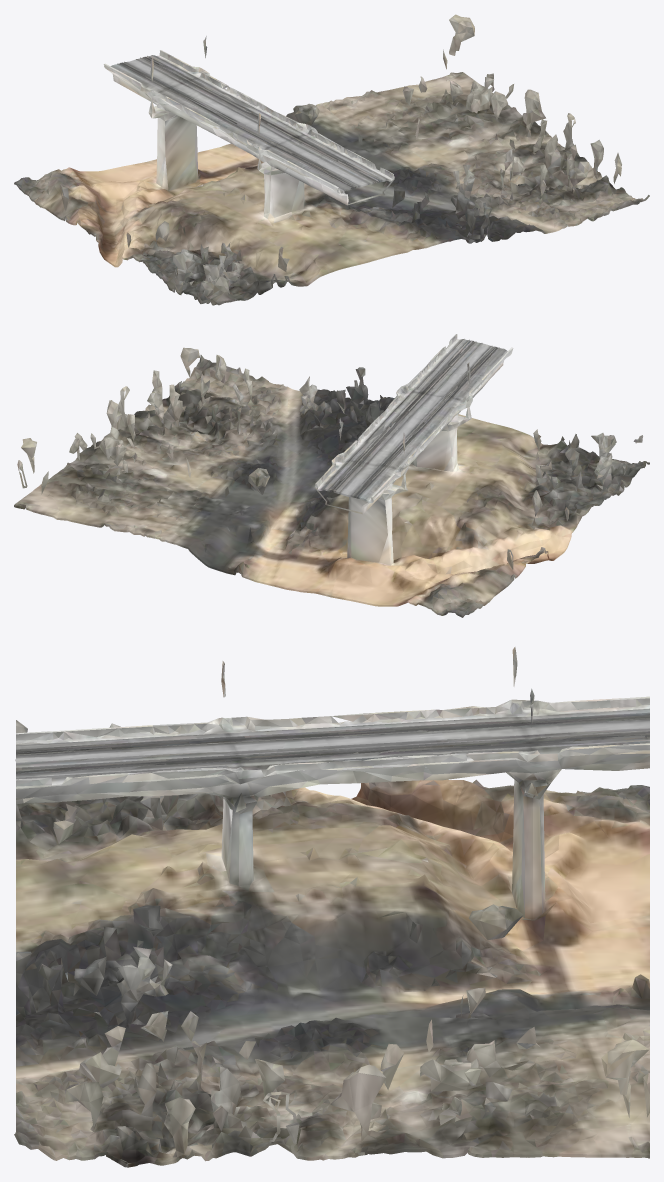
The model's file is Block_L16_17.glb.
3 renders of one model, top to bottom at view 1: azimuth 30°, elevation 25°; view 2: azimuth 150°, elevation 25°; view 3: azimuth 270°, elevation 25°, orthographic. The views are drawn at different scales.
Visible parts, largest first — view 1: rtc; view 2: rtc; view 3: rtc.
Part boxes in pixels (<box>): rtc: <box>14,14,649,305</box>; rtc: <box>14,334,649,617</box>; rtc: <box>14,647,649,1167</box>.
Size of the model in its own units: 97.99 by 31.56 by 70.76.
7 materials, 7 textured.
